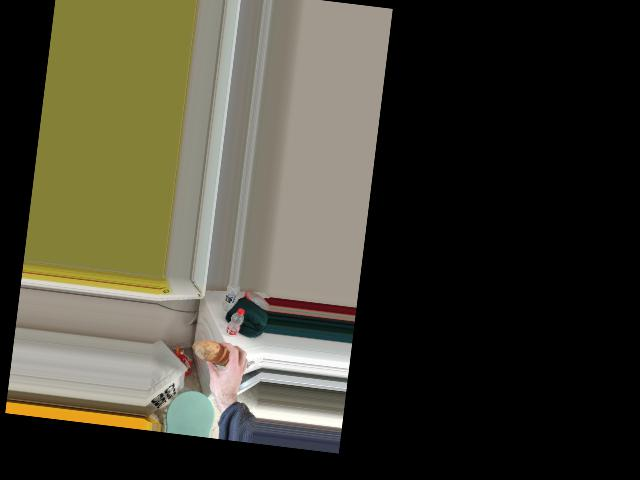sweet_potato: (199, 338, 234, 372)
